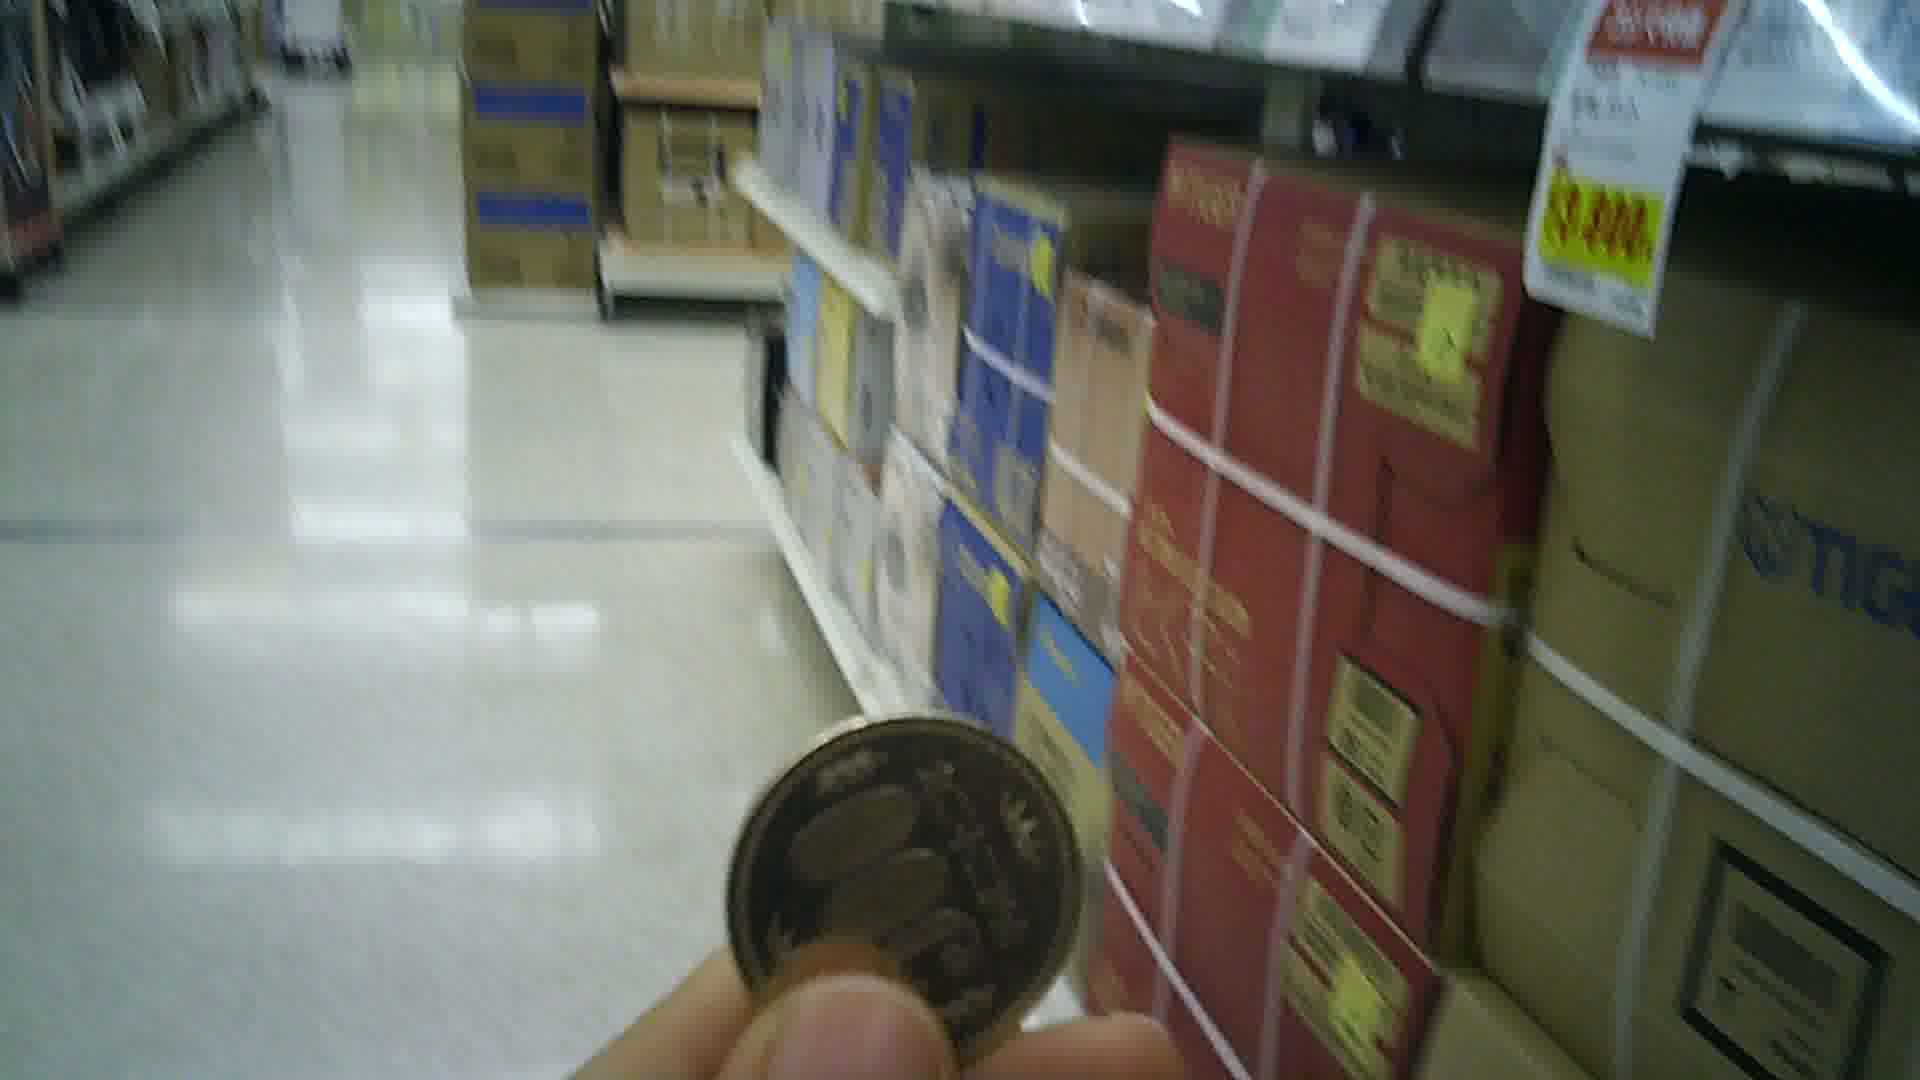500 Yen: (709, 713, 1101, 1060)
